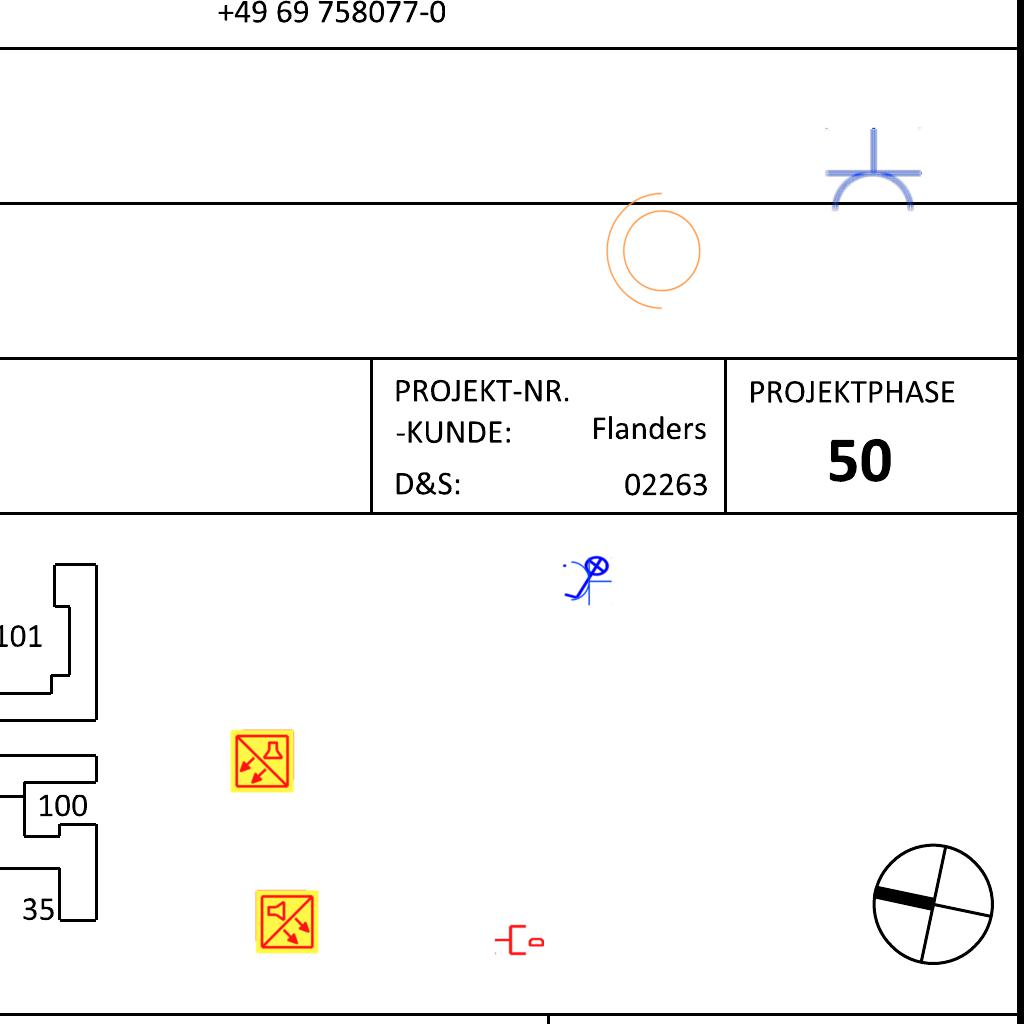Ausschalter_beleuchtet: (560, 555, 616, 603)
Datenanschluss_einfach: (494, 923, 544, 957)
OKW_Multisensormelder_(Kombination_optischer_Rauch-Kahlenmonoxid_Waerme-Melder): (254, 889, 320, 955), (229, 728, 295, 794)
Scheinwerfer_fuer_Alarmbeleuchtung: (601, 188, 713, 320)
Schukosteckdose_einfach: (823, 127, 923, 214), (569, 556, 612, 606)
